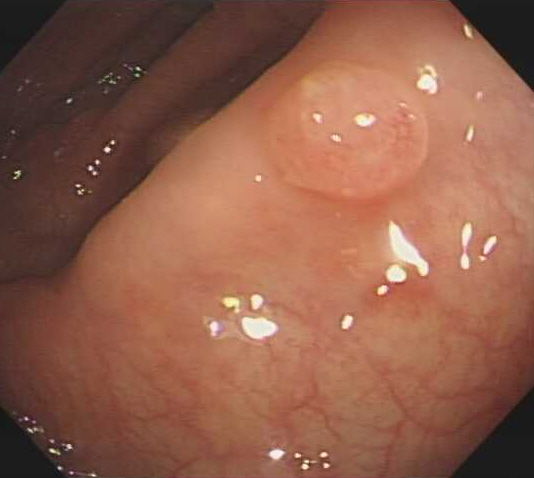others: (258, 57, 431, 204)
